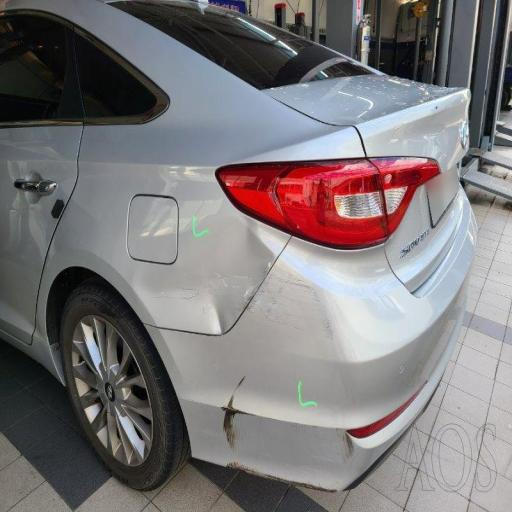dent: (4, 134, 98, 282), (186, 255, 242, 366)
scratch: (253, 248, 339, 396), (213, 388, 266, 468)
